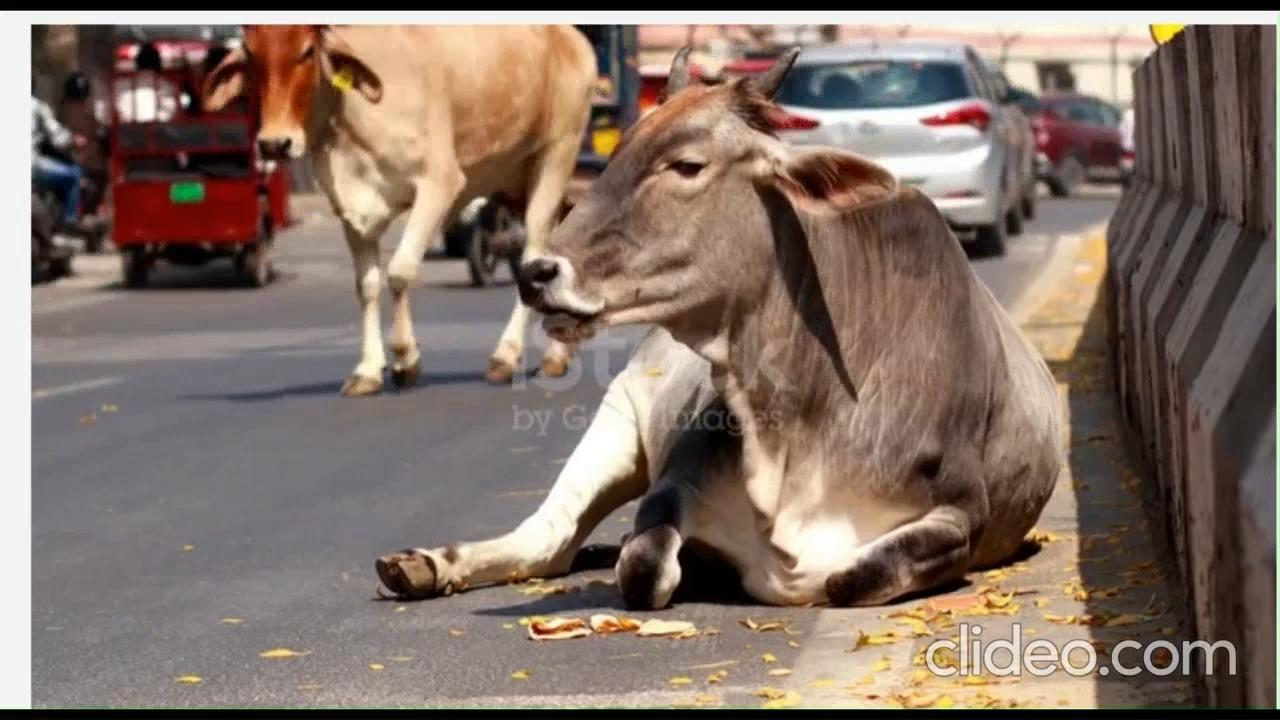Cow: (376, 40, 1064, 591), (200, 29, 598, 399)
